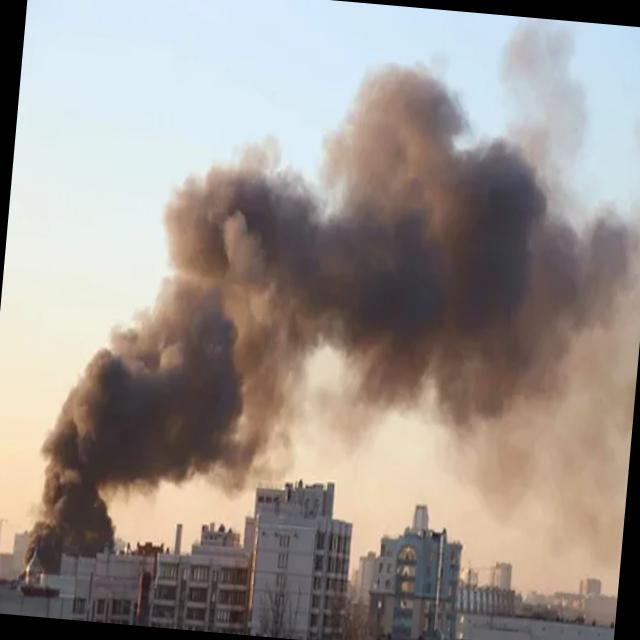Smoke: (33, 37, 558, 577)
